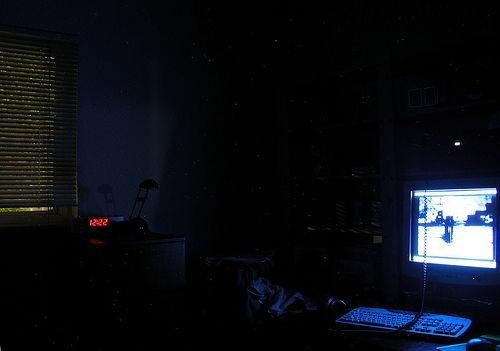tvmonitor: (401, 180, 500, 287)
